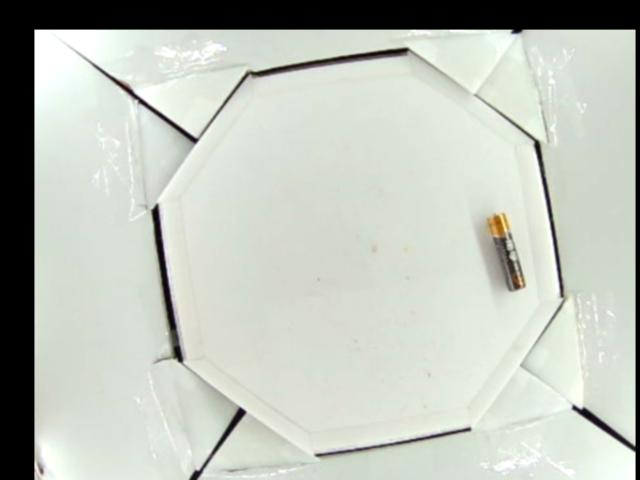Battery: (488, 210, 526, 292)
